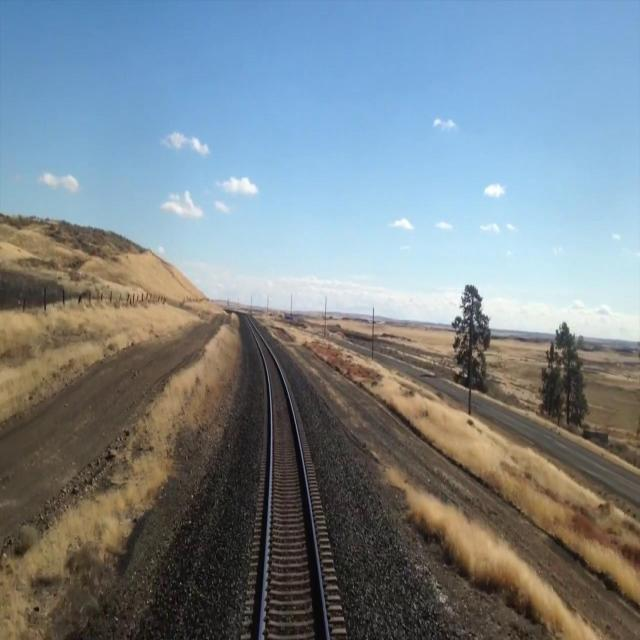rail-track: (254, 330, 323, 639)
